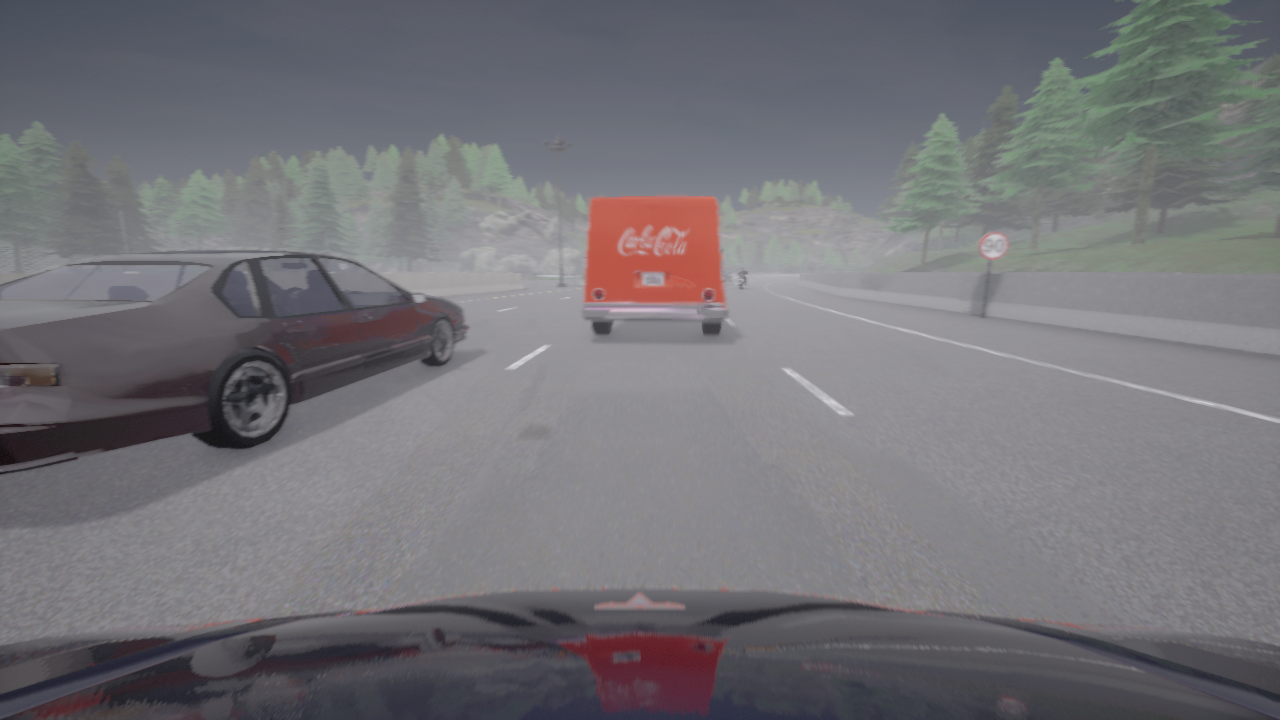cyclist: (0, 588, 1279, 719), (0, 250, 469, 475), (582, 197, 727, 335), (720, 248, 728, 283), (740, 278, 745, 288)
